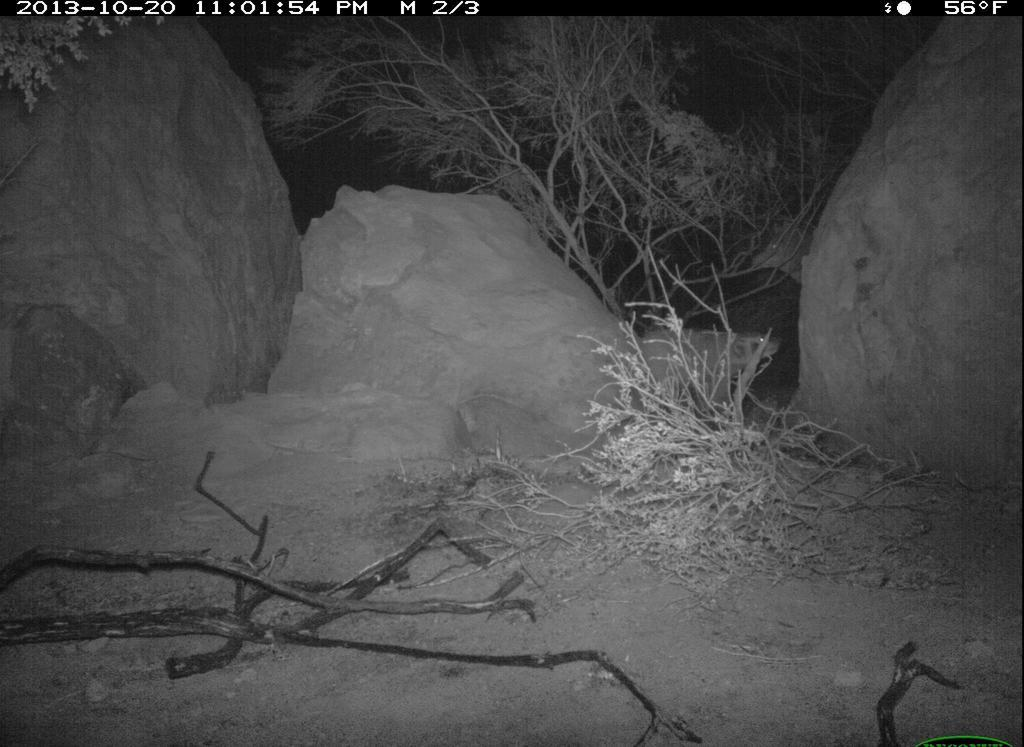badger: (637, 323, 787, 419)
coyote: (746, 212, 830, 292)
